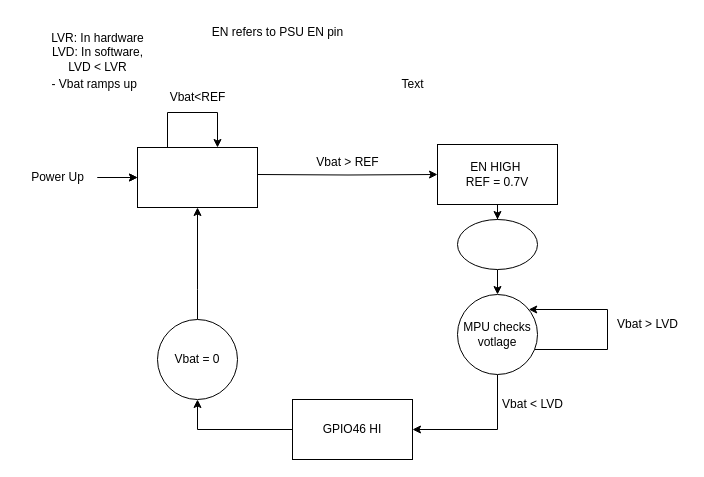
This 704x477 diagram has some shape labels left out. Here are the shapes that lost their labels. From the top down, the centre of each, then its label:
At (x=197, y=177): "EN LO, REF = LVR".
At (x=497, y=244): "MPU ON".
